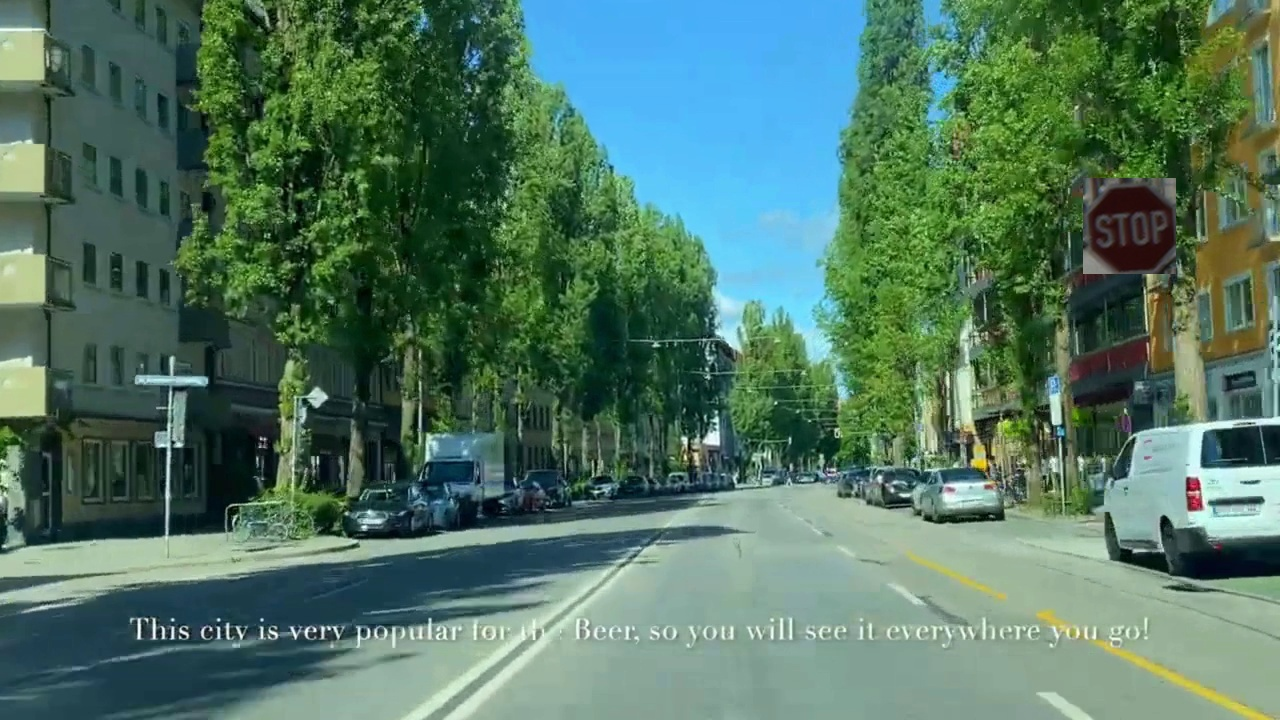Stop: (1083, 178, 1176, 274)
